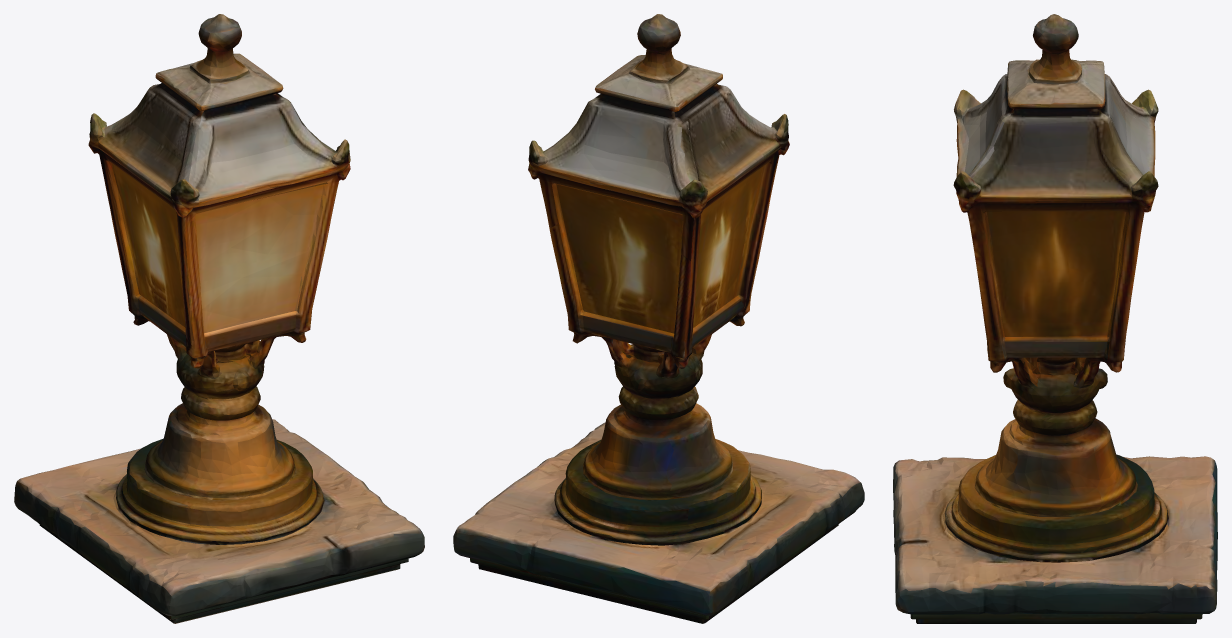
The model's file is prop_lantern_post_01.glb.
3 views of the same model, side by side, from view 1: azimuth 30°, elevation 25°; view 2: azimuth 150°, elevation 25°; view 3: azimuth 270°, elevation 25° (orthographic). The views are drawn at different scales.
Visible parts, largest first — view 1: 506ec3be-0336-4024-9c33-d80741d64d7d_texturing.obj; view 2: 506ec3be-0336-4024-9c33-d80741d64d7d_texturing.obj; view 3: 506ec3be-0336-4024-9c33-d80741d64d7d_texturing.obj.
Boxes of the visible parts, x1,y1,x2,y2 form: 506ec3be-0336-4024-9c33-d80741d64d7d_texturing.obj: [14, 14, 424, 623]; 506ec3be-0336-4024-9c33-d80741d64d7d_texturing.obj: [453, 14, 864, 623]; 506ec3be-0336-4024-9c33-d80741d64d7d_texturing.obj: [893, 14, 1217, 623].
Size of the model in its own units: 1.03 by 1.99 by 1.06.
1 material, 1 textured.
